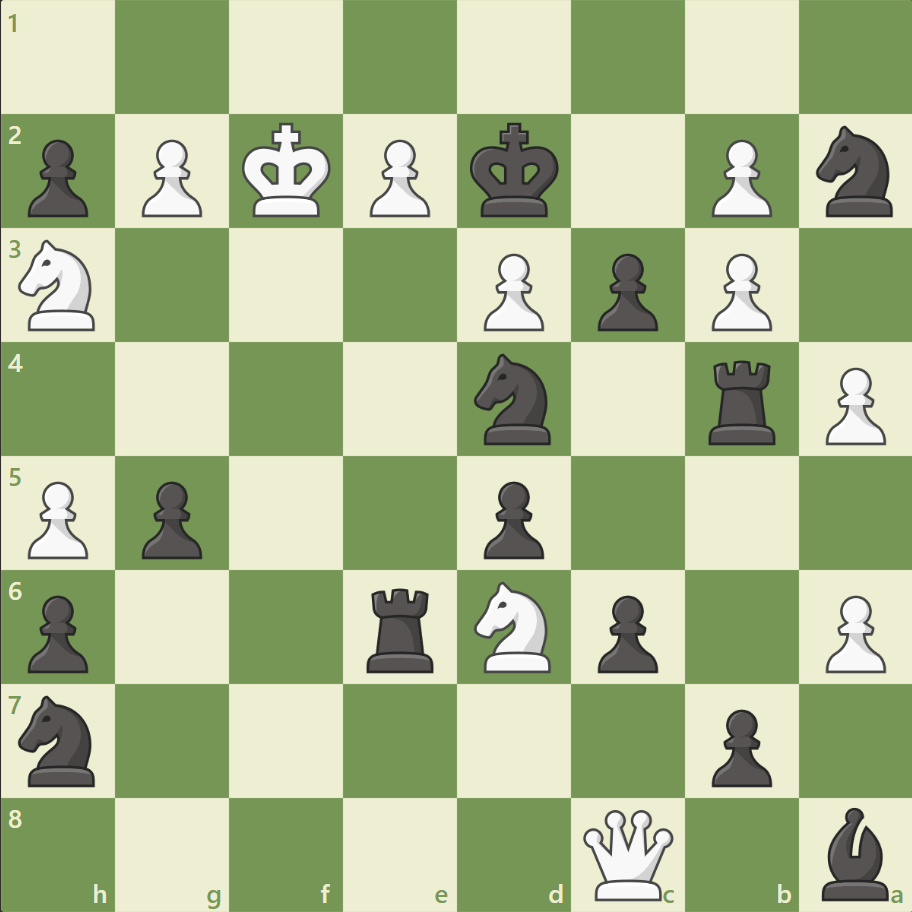K: (238, 117, 338, 225)
N: (11, 234, 108, 337), (465, 575, 562, 677)
P: (20, 473, 95, 564), (701, 246, 776, 337), (474, 246, 549, 337), (701, 132, 776, 223), (133, 132, 208, 223), (815, 586, 889, 677), (815, 359, 889, 450), (361, 132, 435, 223)
Q: (578, 804, 677, 903)
b: (812, 801, 896, 904)
k: (465, 117, 565, 225)
n: (11, 688, 108, 791), (465, 348, 562, 450), (806, 121, 903, 223)
p: (701, 700, 776, 791), (20, 586, 95, 677), (474, 473, 549, 564), (133, 473, 208, 564), (20, 132, 95, 223), (588, 586, 662, 677), (588, 246, 662, 337)
r: (700, 352, 783, 449), (360, 579, 442, 676)
